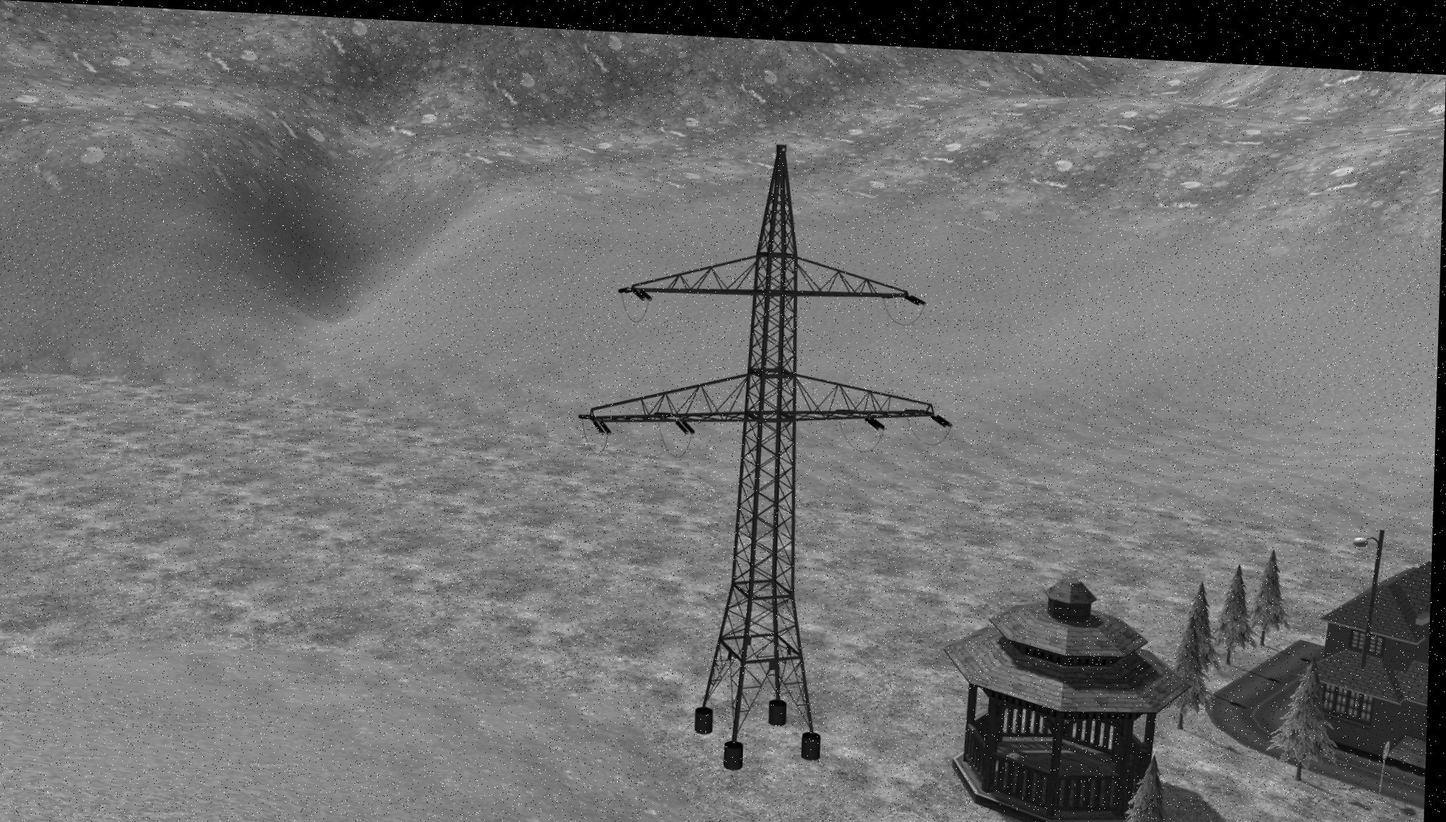tower: (578, 136, 944, 756)
